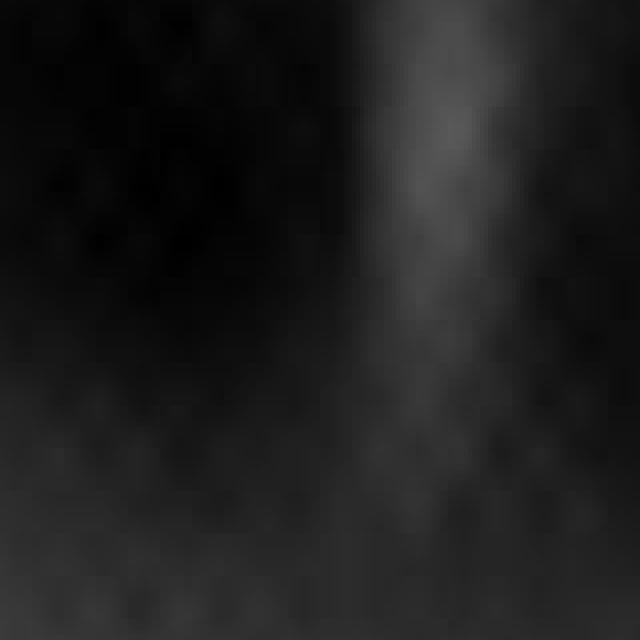person: (377, 1, 541, 513)
